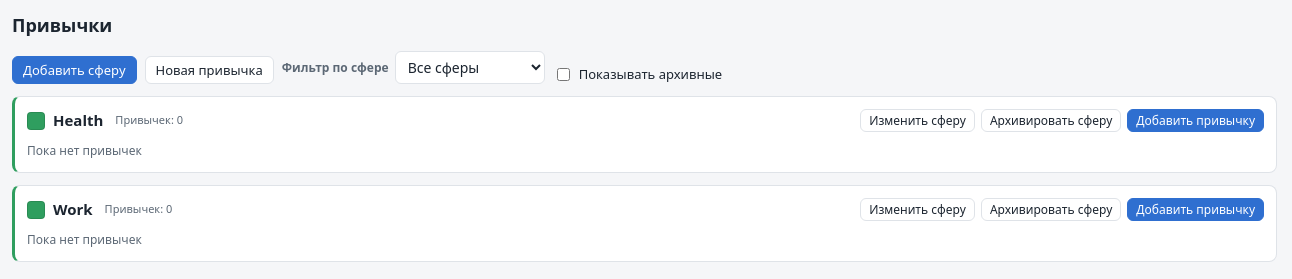
Test case: Area management within HabitsPage › archives an area and hides it from the active list
Expected: the element "Health" is shown, left=12, top=96, right=1277, bottom=173
Click the button "Архивировать сферу" in the row of "Health". click: (1051, 120)
box: left=981, top=109, right=1121, bottom=132
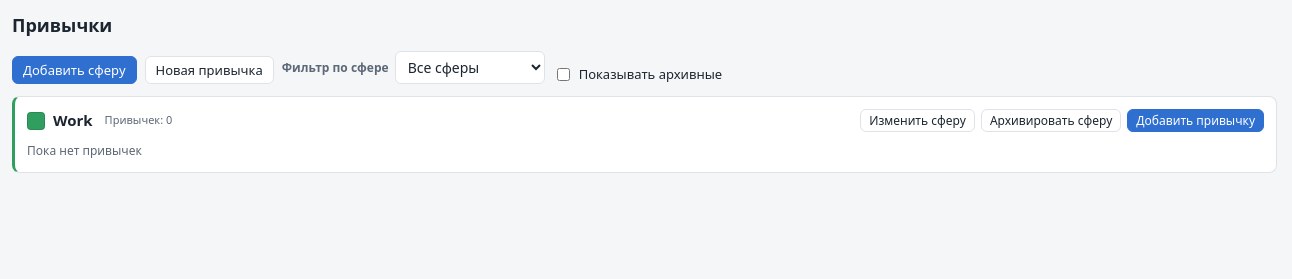
Expected: the heading "Work" is shown, left=27, top=109, right=93, bottom=132
Expected: the heading "Health" is gone
